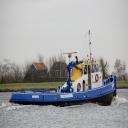tugboat: (9, 30, 119, 112)
